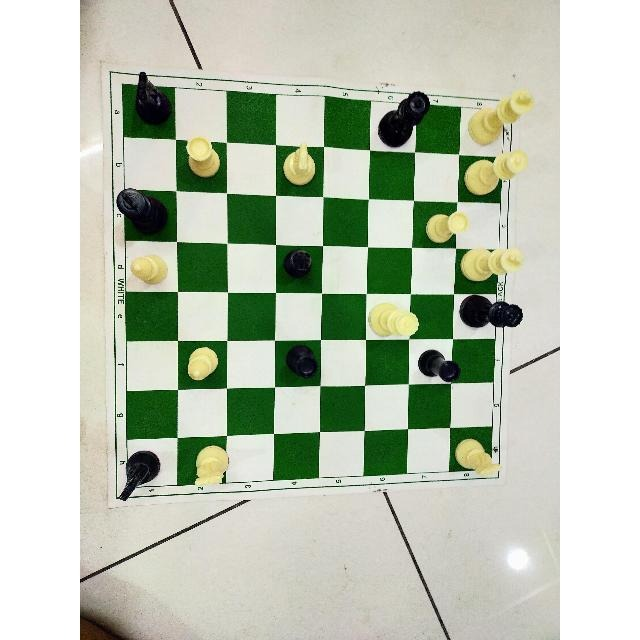black-bishop: (282, 247, 316, 281)
black-king: (116, 185, 172, 237)
black-knight: (116, 450, 164, 502), (132, 69, 172, 127)
black-queen: (377, 88, 433, 149), (456, 290, 527, 333)
black-rook: (414, 346, 463, 388), (285, 344, 321, 382)
white-bishop: (127, 251, 168, 289), (185, 344, 221, 380)
white-king: (467, 84, 536, 147), (457, 245, 525, 286)
white-knight: (453, 437, 507, 481), (280, 141, 318, 189), (192, 444, 232, 488)
white-queen: (460, 147, 532, 198), (367, 299, 421, 342)
white-rook: (184, 136, 222, 180), (422, 211, 469, 245)
